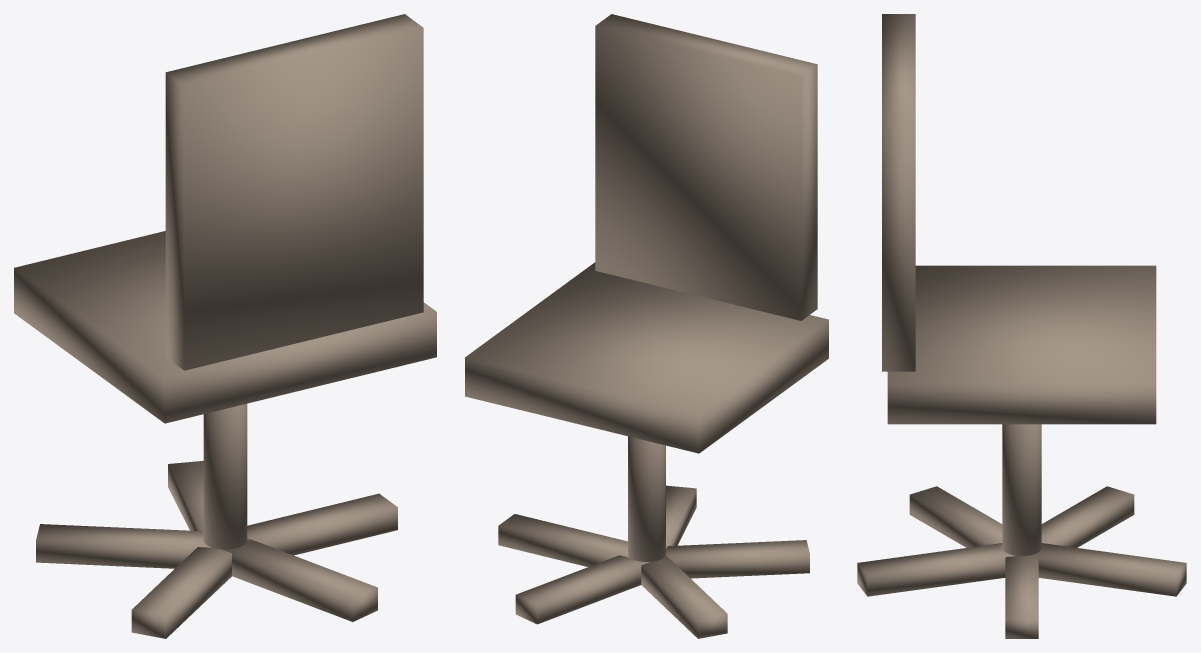
The model's file is SM_Office_Chair.fbx.
3 views of the same model, side by side, from view 1: azimuth 30°, elevation 25°; view 2: azimuth 150°, elevation 25°; view 3: azimuth 270°, elevation 25° (orthographic). The views are drawn at different scales.
Visible parts, largest first — view 1: Cube; view 2: Cube; view 3: Cube.
Boxes of the visible parts, box(x1,y1,x2,y2) form: Cube: box(14, 14, 436, 638); Cube: box(465, 14, 828, 638); Cube: box(857, 14, 1186, 638).
Size of the model in its own units: 56.03 by 99 by 58.92.
